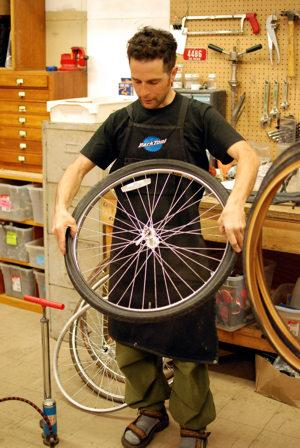person: (51, 26, 262, 448)
